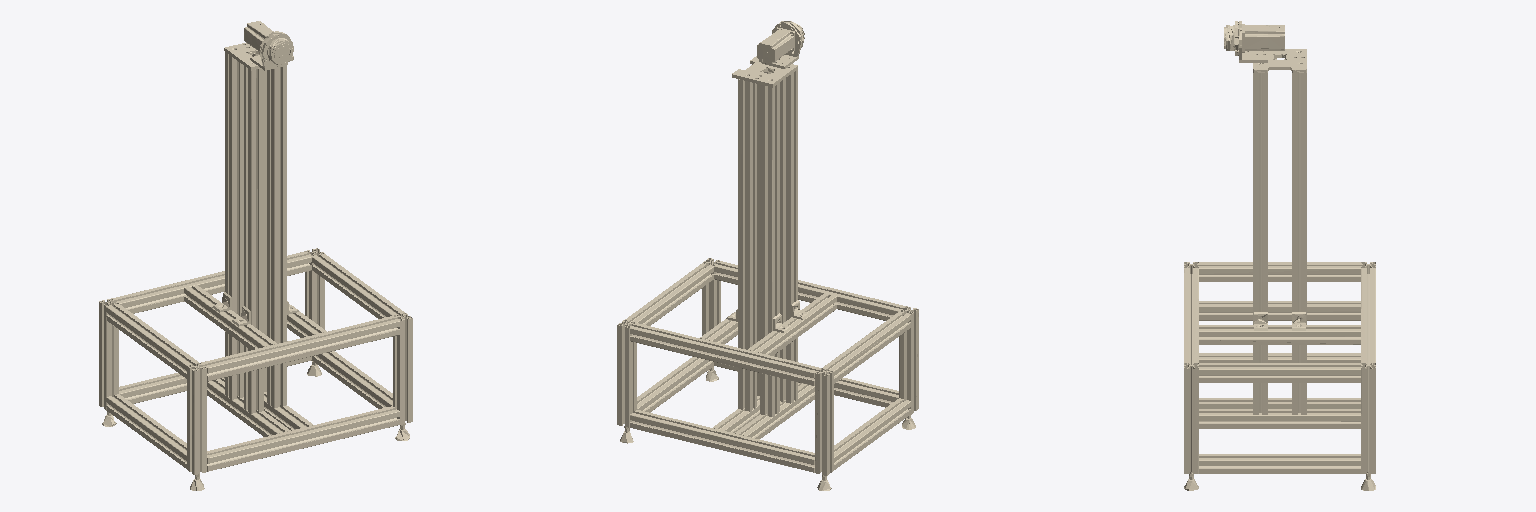
robot.urdf — amr:
<?xml version="1.0" encoding="utf-8"?>
<!-- This URDF was automatically created by SolidWorks to URDF Exporter! Originally created by [author] ([email redacted]) 
     Commit Version: 1.5.0-0-g9aa0fdb  Build Version: 1.5.7004.21443
     For more information, please see http://wiki.ros.org/sw_urdf_exporter -->
<robot
  name="amr">
  <link name="base_link">
    <visual>
      <origin
        xyz="0 0 0.045"
        rpy="0 0 0" />
      <geometry>
        <!-- <box size="0.7 0.5 0.3"/> -->
        <mesh
          filename="package://amr_description/meshes/base_link.STL" />
      </geometry>
      <collision>
       <origin
        xyz="0 0 0.15"
        rpy="0 0 0" />
      <geometry>
        <box size="0.7 0.5 0.3"/>
        <!-- <mesh
          filename="package://amr_description/meshes/base_link.STL" /> -->
      </geometry>
      </collision>
      <material
        name="white">
      </material>
    </visual>
  </link>
    <!--link
    name="base_footprint">
  </link>
    <joint
    name="footprint_joint"
    type="fixed">
      <origin
      xyz="0 0 0.04"
      rpy="0 0 0" />
    <parent
      link="base_footprint" />
    <child
      link="base_link" />
  </joint> -->
  <link
    name="lw_link">
    <visual>
      <origin
        xyz="0 0 0"
        rpy="0 0 0" />
      <geometry>
        <mesh
          filename="package://amr_description/meshes/lw_link.STL" />
      </geometry>
      <material
        name="red">
      </material>
    </visual>
  </link>
  <joint
    name="lw_joint"
    type="continuous">
      <origin
      xyz="0 0.225 0.1"
      rpy="-1.5707963267949 0 0" />
    <parent
      link="base_link" />
    <child
      link="lw_link" />
    <axis
      xyz="0 0 1" />
    <safety_controller
      k_velocity="0" />
  </joint>
  <link
    name="rw_link">
    <visual>
      <origin
        xyz="0 0 0"
        rpy="0 0 0" />
      <geometry>
        <mesh
          filename="package://amr_description/meshes/rw_link.STL" />
      </geometry>
      <material
        name="red">
      </material>
    </visual>
  </link>
  <joint
    name="rw_joint"
    type="continuous">
      <origin
      xyz="0 -0.225 0.1"
      rpy="1.5707963267949 0 0" />
    <parent
      link="base_link" />
    <child
      link="rw_link" />
    <axis
      xyz="0 0 -1" />
    <safety_controller
      k_velocity="0" />
  </joint>

  <joint name="hokuyo_joint" type="fixed">
    <origin xyz="0.35 -0.28 0.09" rpy="0.0 0.0 -0.785"/>
    <axis xyz="0 0 1" />
    <parent link="base_link"/>
    <child link="hokuyo_link"/>
  </joint>

  <link name="hokuyo_link">
    <visual>
      <origin xyz="0 0 0" rpy="0 0 0"/>
      <geometry>
       <mesh filename="package://amr_description/meshes/hokuyo.dae" />
      </geometry>
    </visual>
  </link>

    <material name="black">
      <color rgba="0.007 0.007 0.007 1.0"/>
    </material>

    <material name="red">
      <color rgba="0.49693 0.01298 0.00518 1.0"/>
    </material>

    <material name="white">
      <color rgba="0.87962 0.8388 0.75294 1.0"/>
    </material>

</robot>

--- Facts derived from the render (not from the file) ---
The picture shows the robot from 3 angles, left to right: view 1: azimuth 30°, elevation 25°; view 2: azimuth 150°, elevation 25°; view 3: azimuth 270°, elevation 25°; orthographic projection.
Model amr with 4 links and 3 joints (2 continuous, 1 fixed), rooted at base_link, posed all joints at 0.
Links seen in each view (by area): view 1: base_link; view 2: base_link; view 3: base_link.
Link boxes in pixels (left/top/right/bottom): base_link: left=99, top=21, right=412, bottom=490; base_link: left=617, top=21, right=918, bottom=490; base_link: left=1184, top=21, right=1375, bottom=490.
Bounding box of the posed robot: 0.661 × 0.5002 × 1.19 m (x, y, z).
1 mesh visuals loaded from 4 distinct referenced files (1 binary STL); not drawn: 3 (reference not matched to a file when rendering).